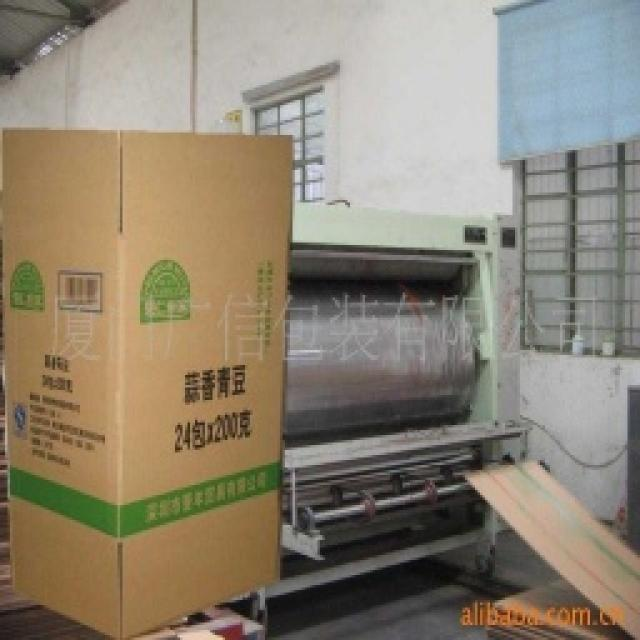box: (5, 113, 295, 640)
